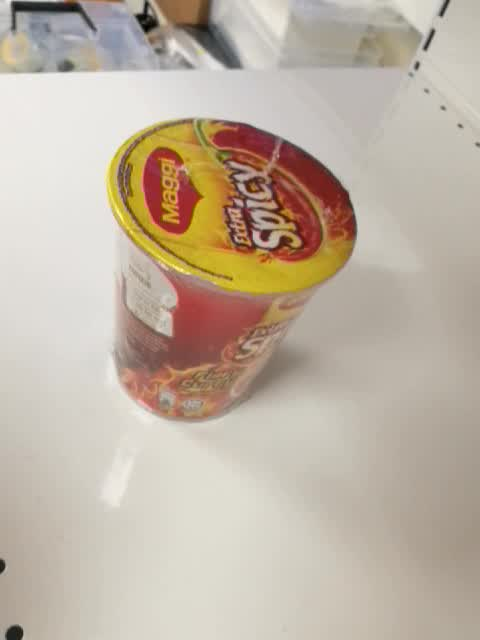maggi: (105, 115, 357, 424)
